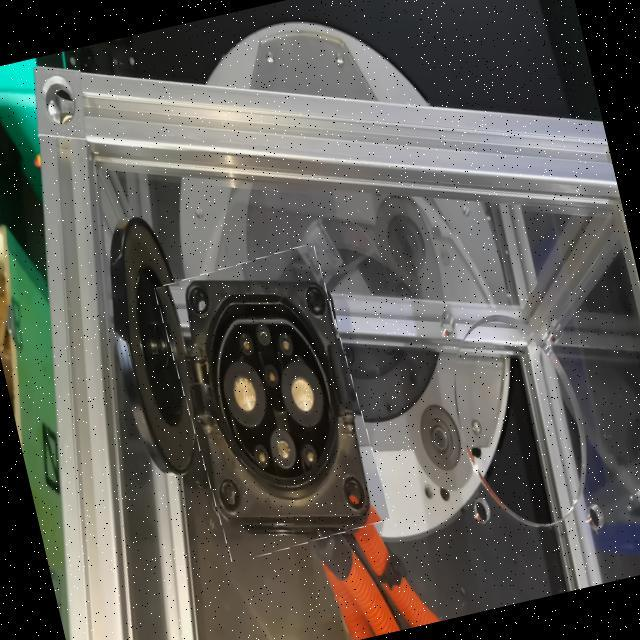GB-T: (188, 296, 366, 513)
